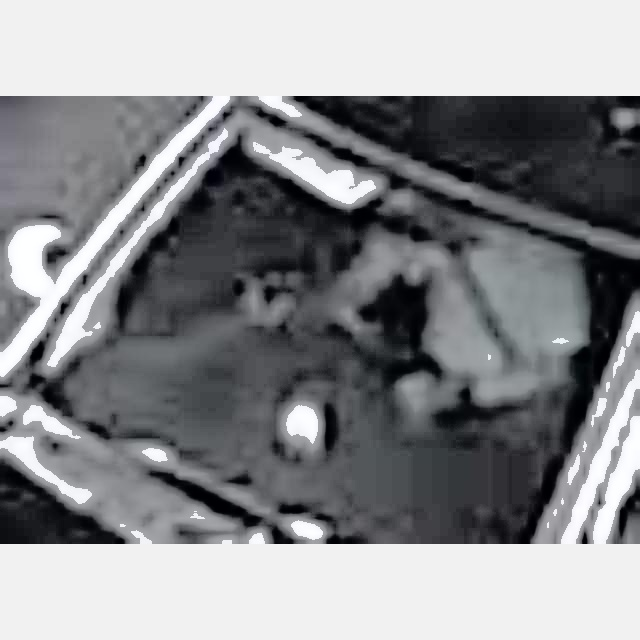pakai: (331, 192, 574, 434)
